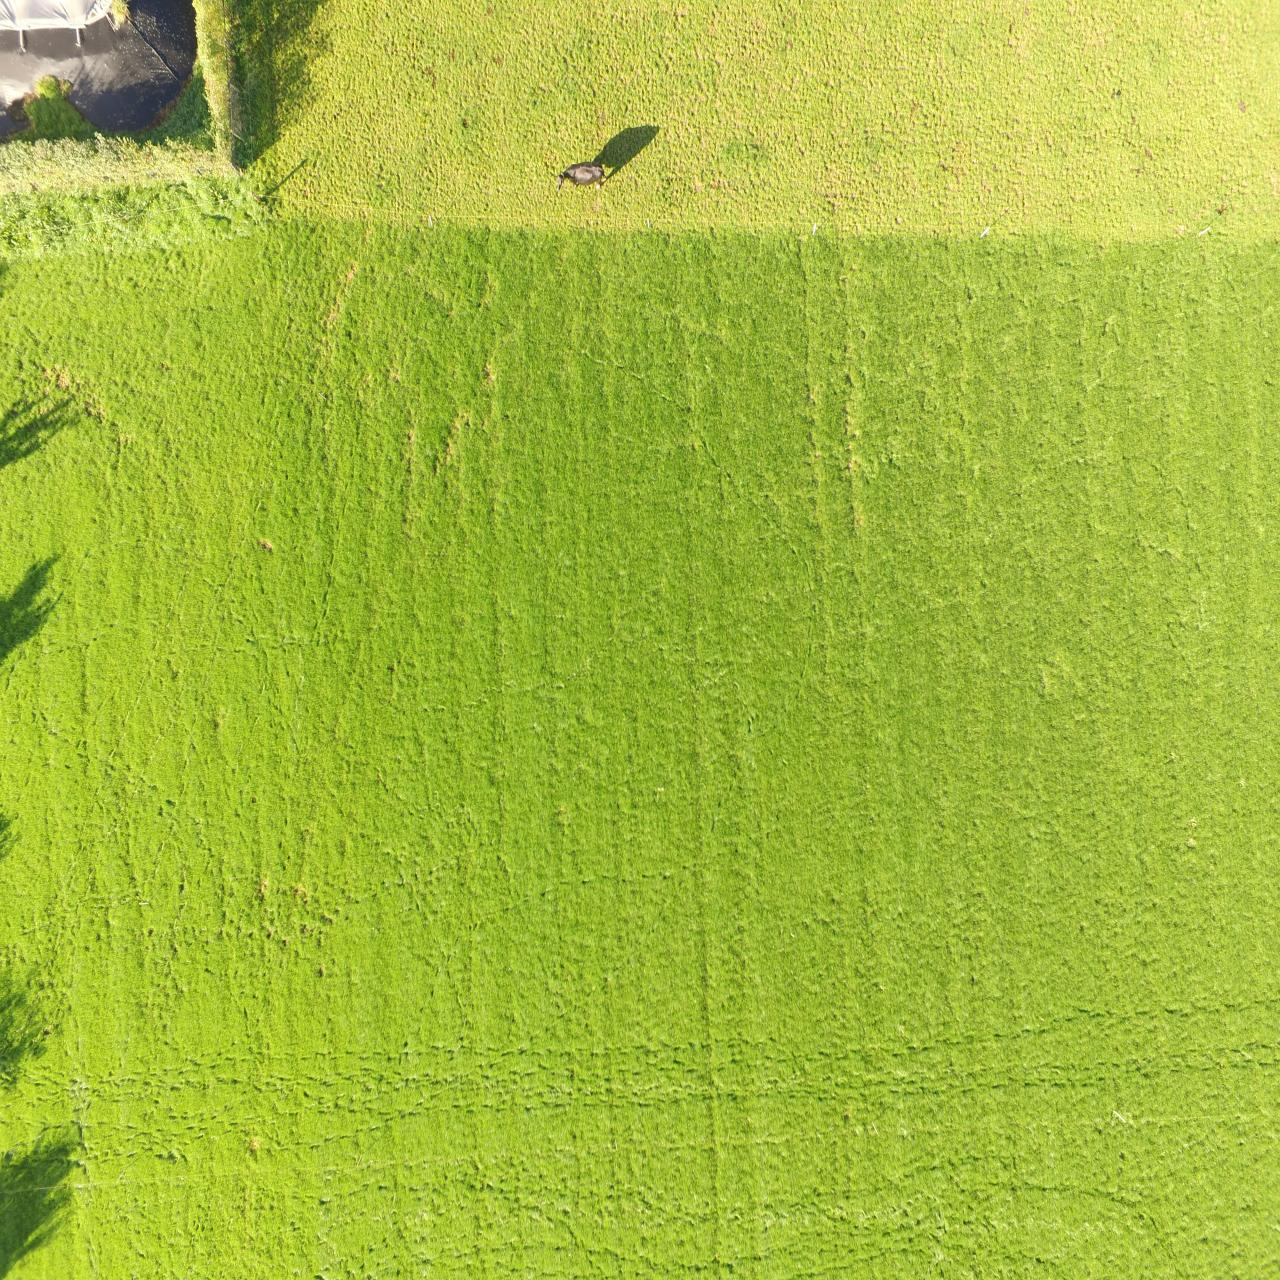cow: (552, 158, 607, 196)
